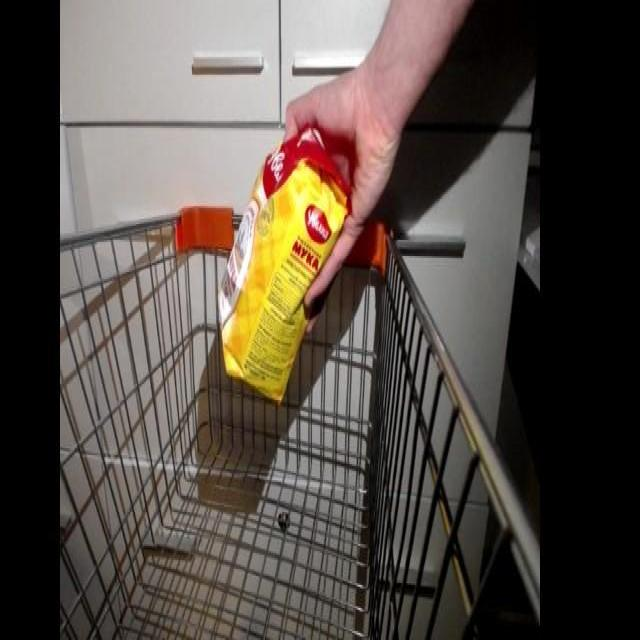Flour: (216, 119, 358, 414)
